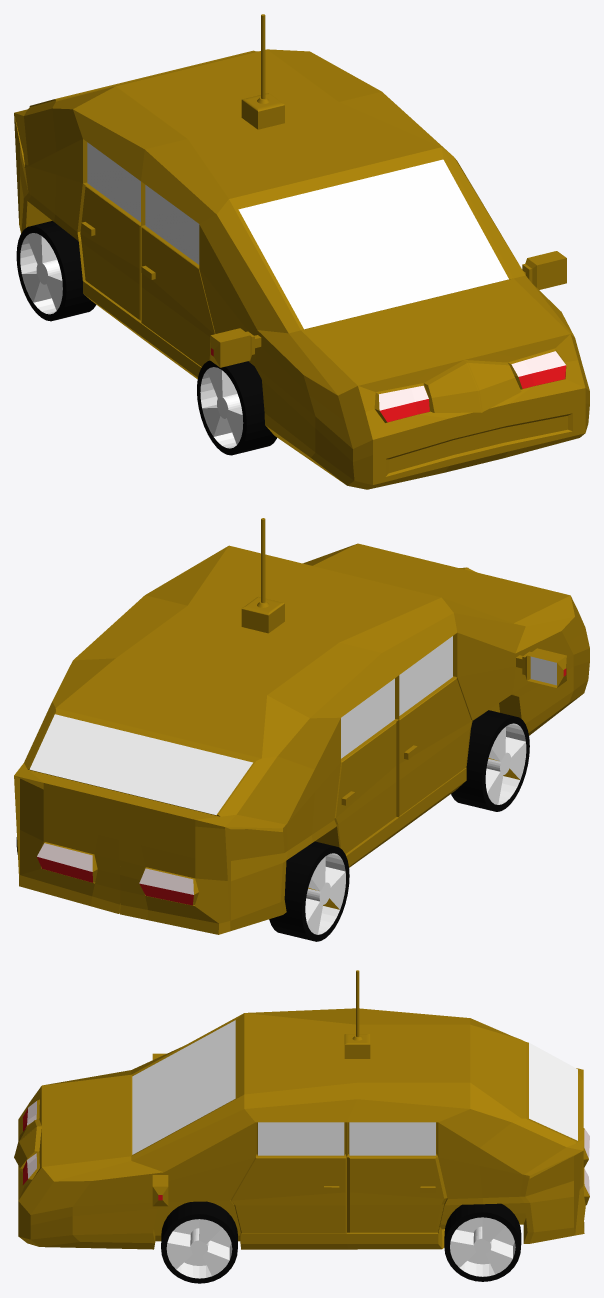
Rendered from car_color.glb.
3 renders of one model, top to bottom at view 1: azimuth 30°, elevation 25°; view 2: azimuth 150°, elevation 25°; view 3: azimuth 270°, elevation 25°, orthographic. The views are drawn at different scales.
Visible parts, largest first — view 1: Cubo; view 2: Cubo; view 3: Cubo.
Boxes of the visible parts, x1,y1,x2,y2 form: Cubo: [14, 14, 589, 489]; Cubo: [14, 518, 589, 941]; Cubo: [14, 970, 589, 1283].
Size of the model in its own units: 4.54 by 4.05 by 8.19.
